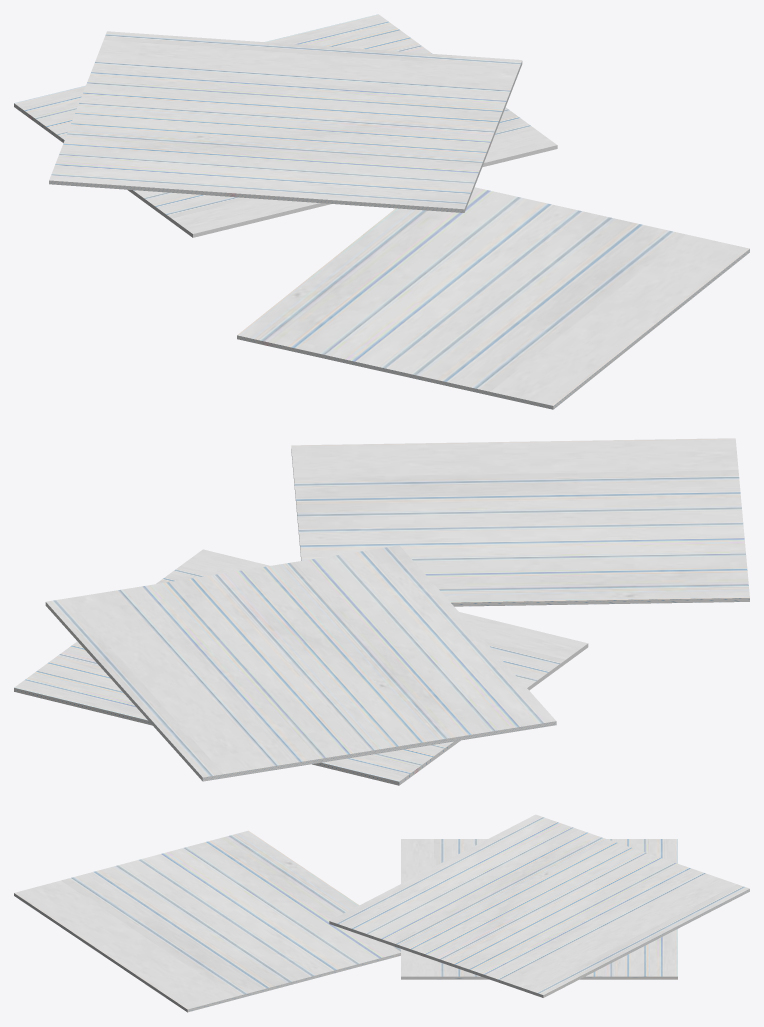
File: MessyPapers.fbx
3 renders of one model, top to bottom at view 1: azimuth 30°, elevation 25°; view 2: azimuth 150°, elevation 25°; view 3: azimuth 270°, elevation 25°, orthographic. The views are drawn at different scales.
Visible parts, largest first — view 1: pCube2, pCube3, pCube1; view 2: pCube2, pCube3, pCube1; view 3: pCube2, pCube3, pCube1.
Part boxes in pixels (<box>): pCube2: <box>49,31,522,212</box>; pCube3: <box>237,187,749,409</box>; pCube1: <box>14,14,557,237</box>; pCube2: <box>45,545,556,781</box>; pCube3: <box>291,438,749,606</box>; pCube1: <box>14,549,588,785</box>; pCube2: <box>329,814,749,997</box>; pCube3: <box>14,830,400,1012</box>; pCube1: <box>401,839,677,979</box>.
Size of the model in its own units: 1.31 by 0.0616 by 2.26.
1 material, 1 textured.
